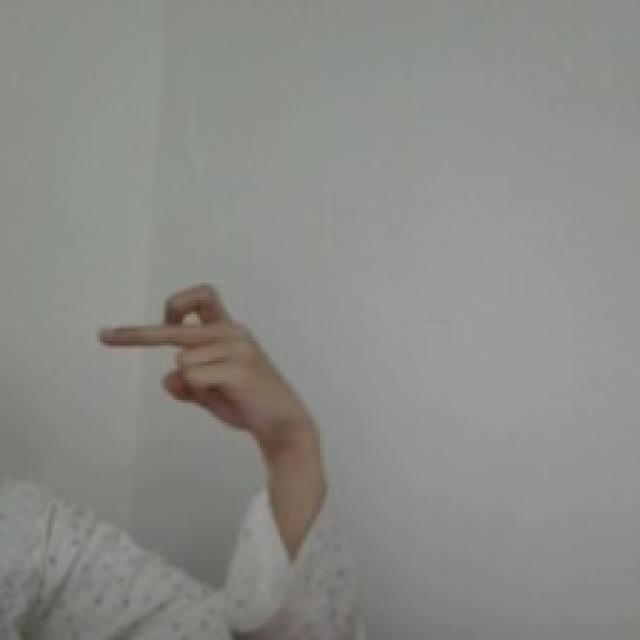sunday: (92, 275, 294, 439)
